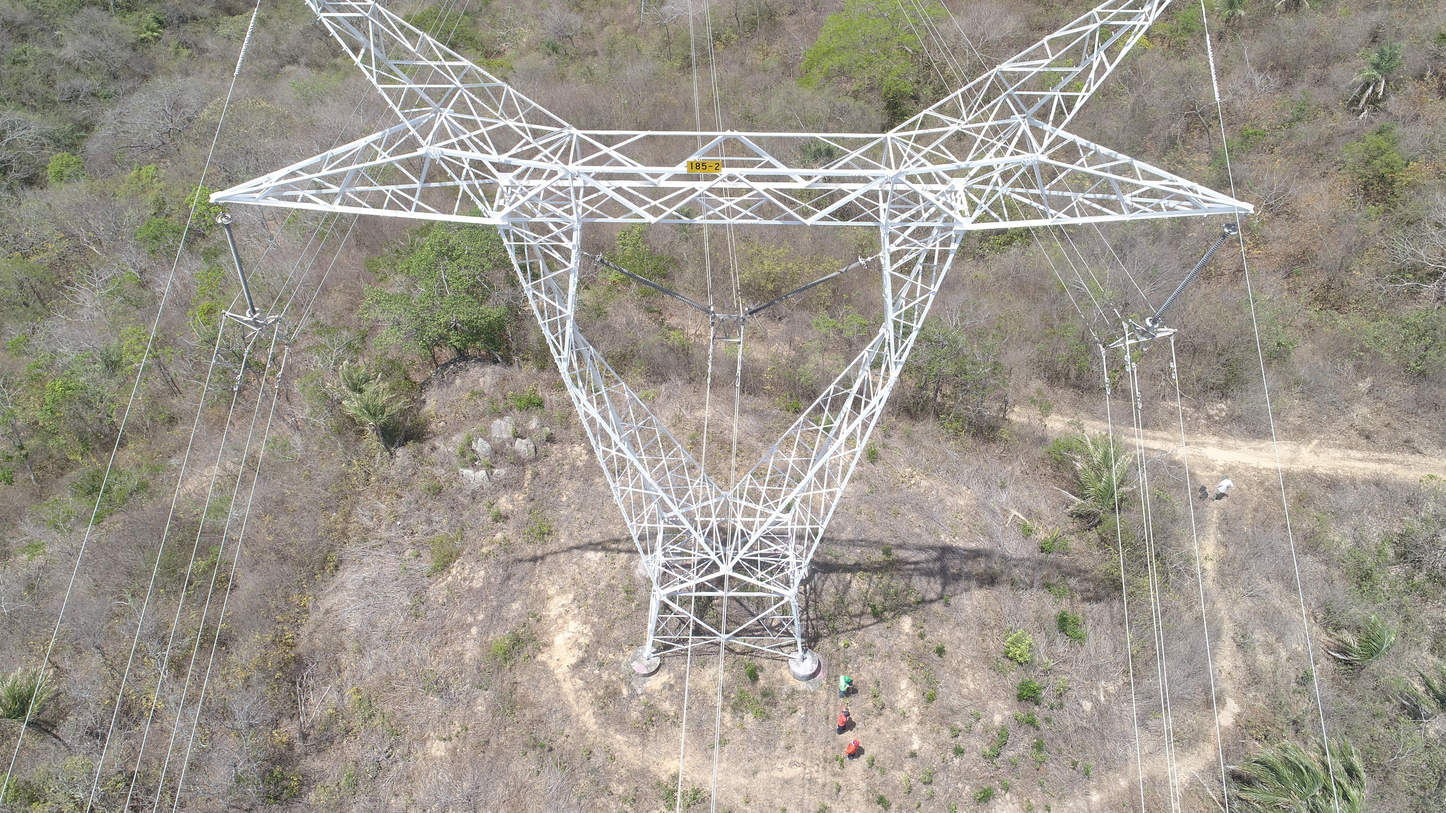power_tower: (207, 1, 1260, 682)
